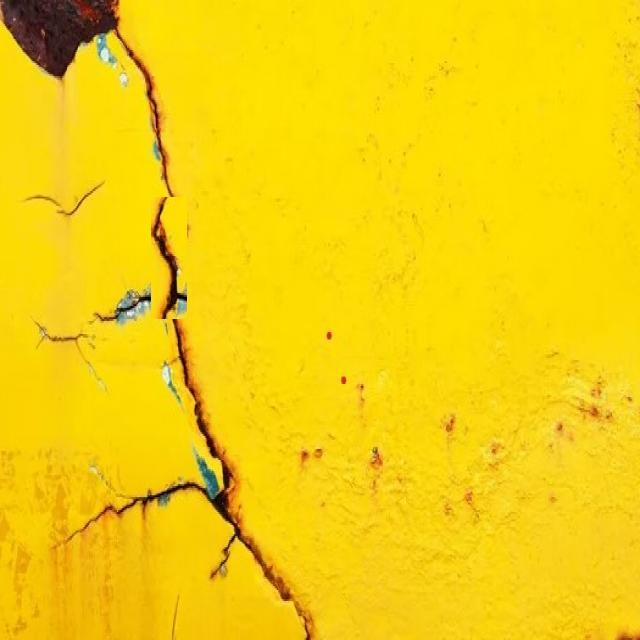Corrosion: (136, 321, 224, 492), (210, 496, 314, 640), (112, 26, 174, 196), (66, 482, 220, 544), (118, 191, 188, 322), (0, 0, 117, 76)
